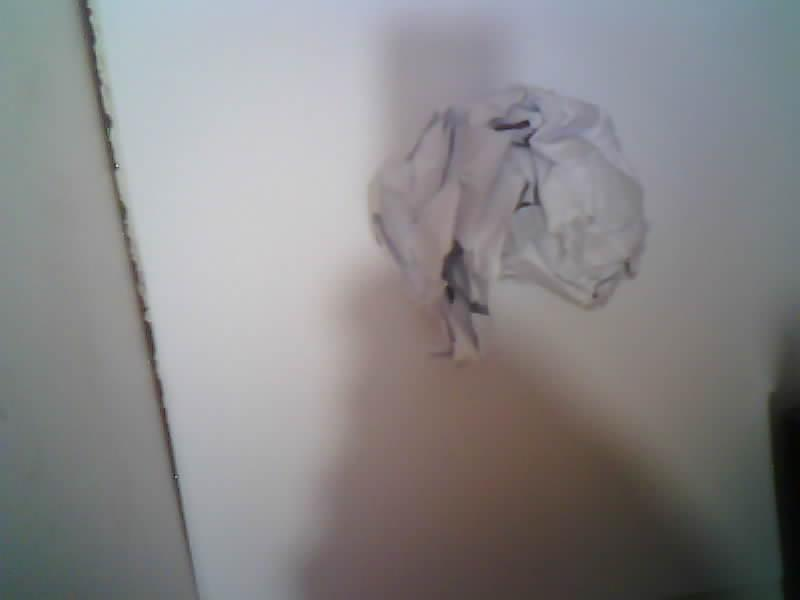biodegradable: (369, 86, 646, 359)
